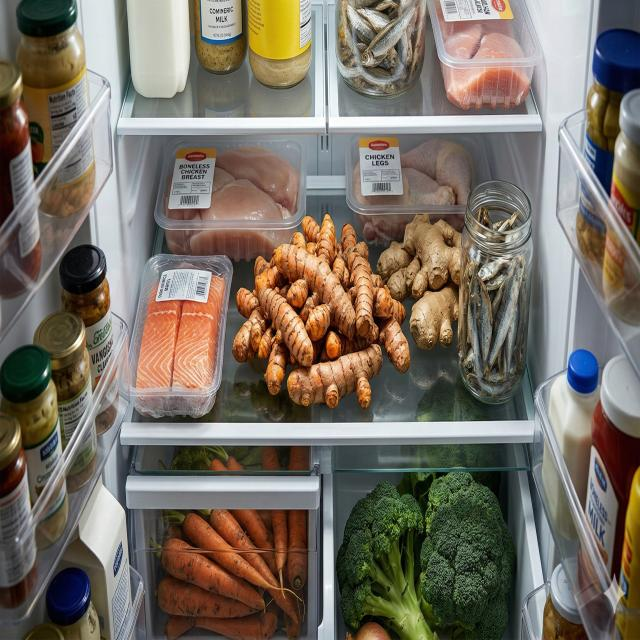anchovies: (459, 208, 529, 402)
brocolli: (336, 444, 514, 640)
carrot: (156, 446, 308, 640)
chicken: (164, 145, 301, 265), (353, 137, 475, 245), (437, 0, 531, 110)
fish: (136, 271, 226, 407), (337, 0, 427, 97)
ginger: (377, 213, 463, 351)
turmeric: (232, 214, 411, 410)
